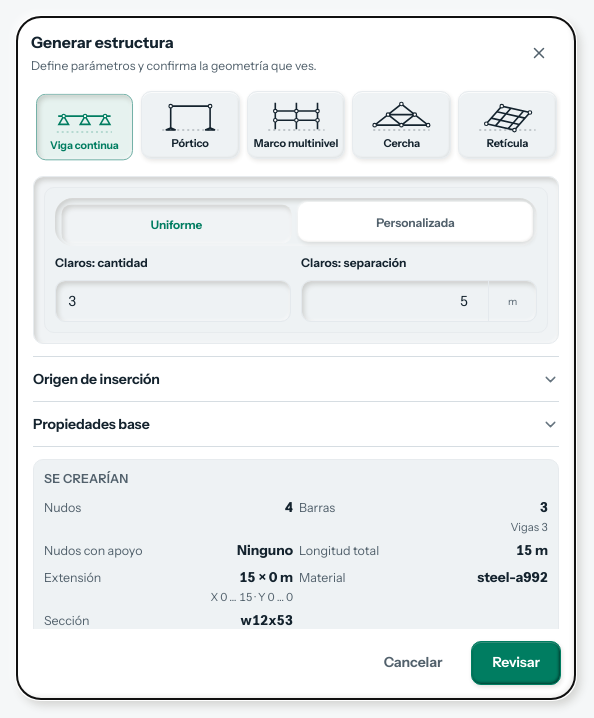
Test case: separaciones personalizadas › alterna a lista y genera con separaciones desiguales
The image size is (594, 718).
Click the radio button labelled "Personalizada" at (416, 222), box [298,202,533,242]
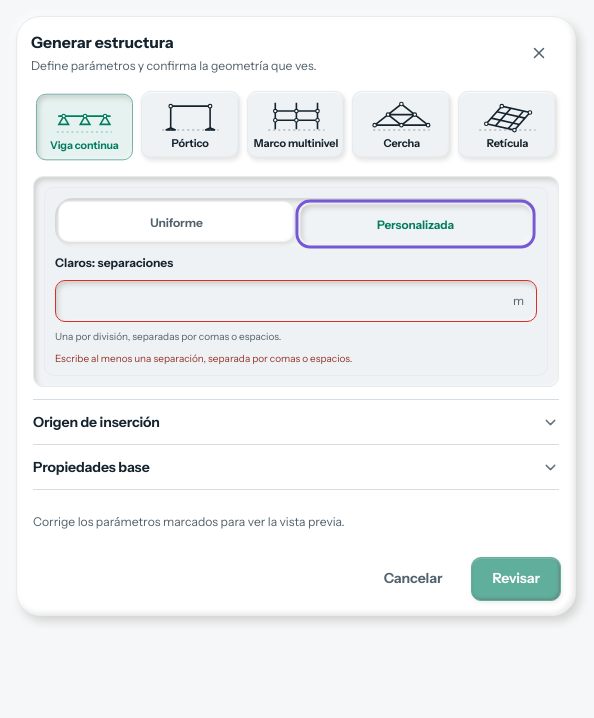
Type "4, 6, 4, 6" into the field labelled "Claros: separaciones" at (280, 301), box [56,281,505,321]
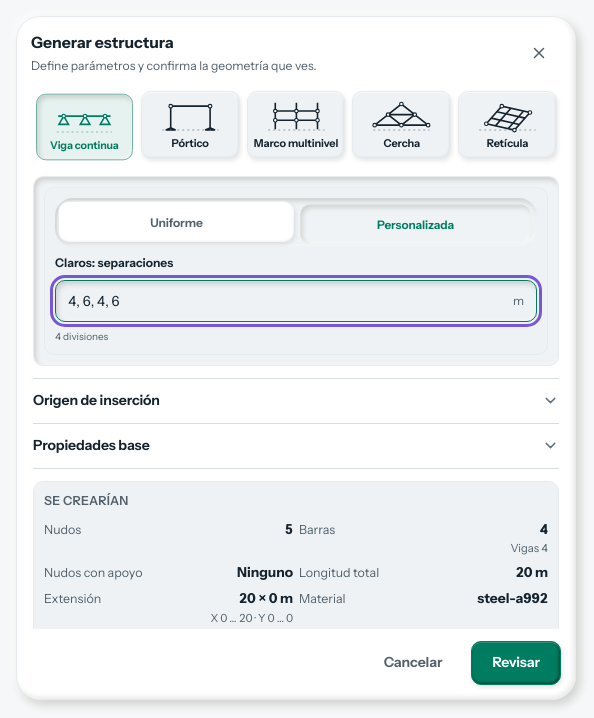
expect the text "4 divisiones" is shown: met, box [55,330,108,343]
